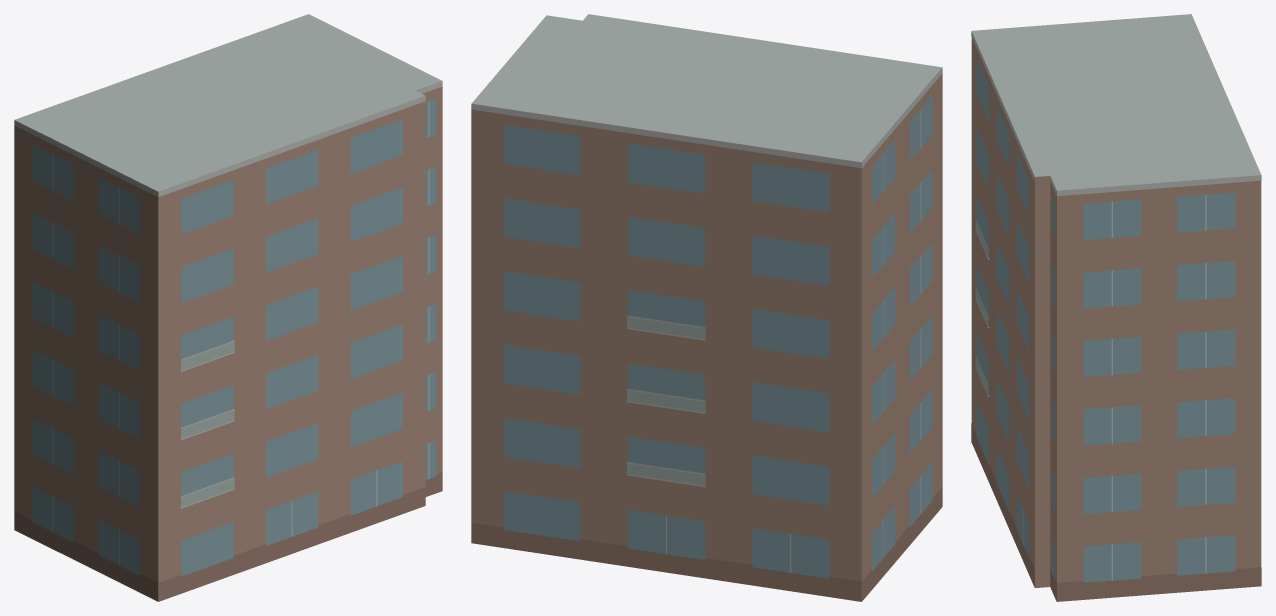
File: survey-upis-32832578.glb
3 views of the same model, side by side, from view 1: azimuth 30°, elevation 25°; view 2: azimuth 150°, elevation 25°; view 3: azimuth 270°, elevation 25° (orthographic). The views are drawn at different scales.
Visible parts, largest first — view 1: survey-upis-32832578.tmp; view 2: survey-upis-32832578.tmp; view 3: survey-upis-32832578.tmp.
Part boxes in pixels (x1,y1,x2,y2): survey-upis-32832578.tmp: (14,14,442,601); survey-upis-32832578.tmp: (471,14,942,601); survey-upis-32832578.tmp: (971,14,1261,601).
Bounding box in the file's own units: 16.88 × 18.3 × 11.71.
